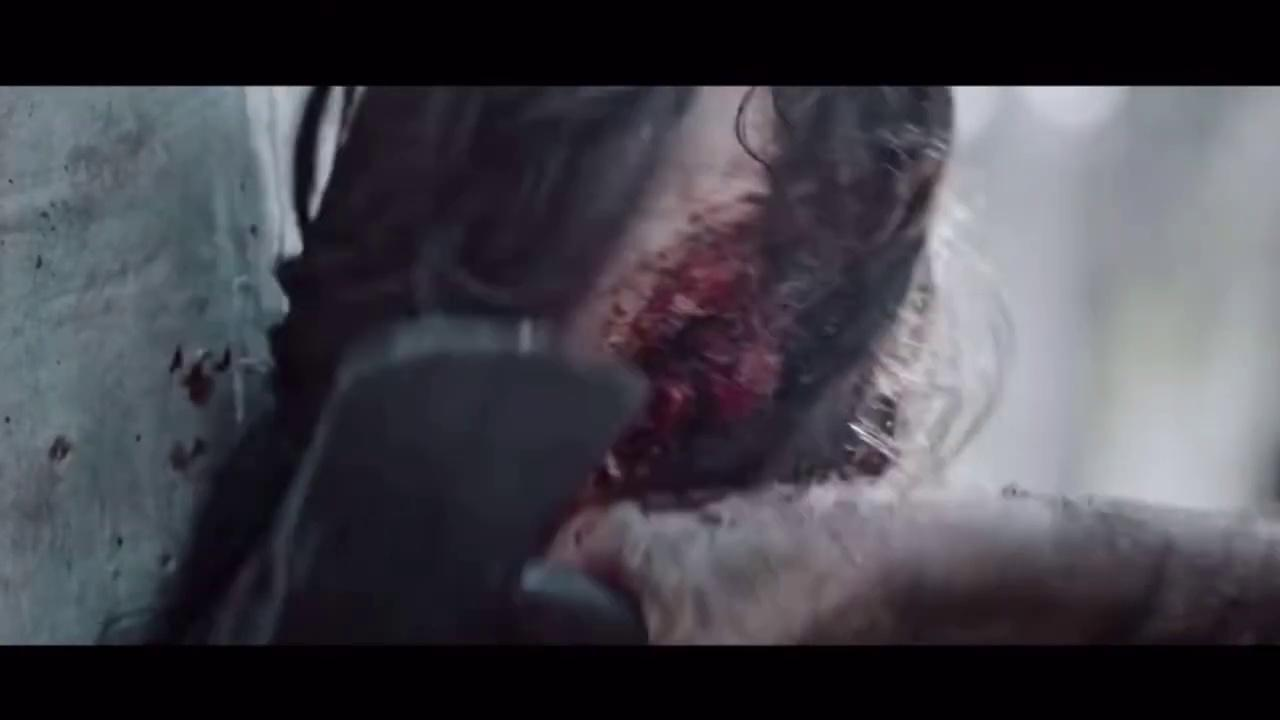Fire: (557, 198, 781, 550), (168, 345, 232, 408), (172, 438, 206, 470)
